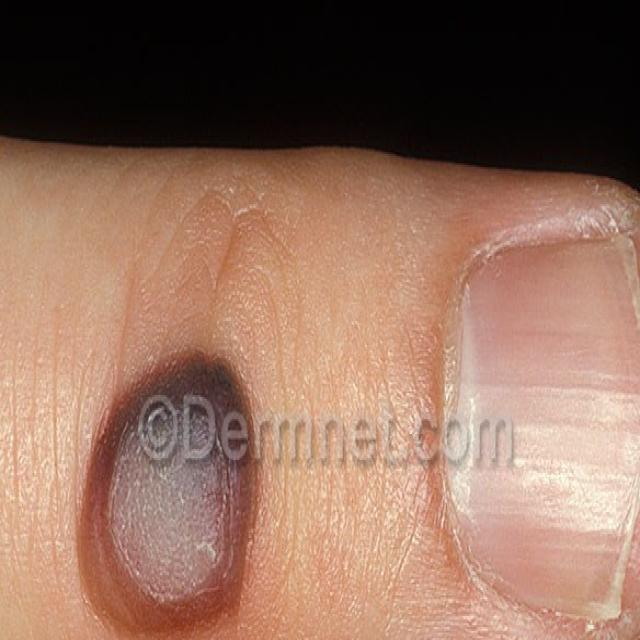Warts: (70, 321, 287, 640)
